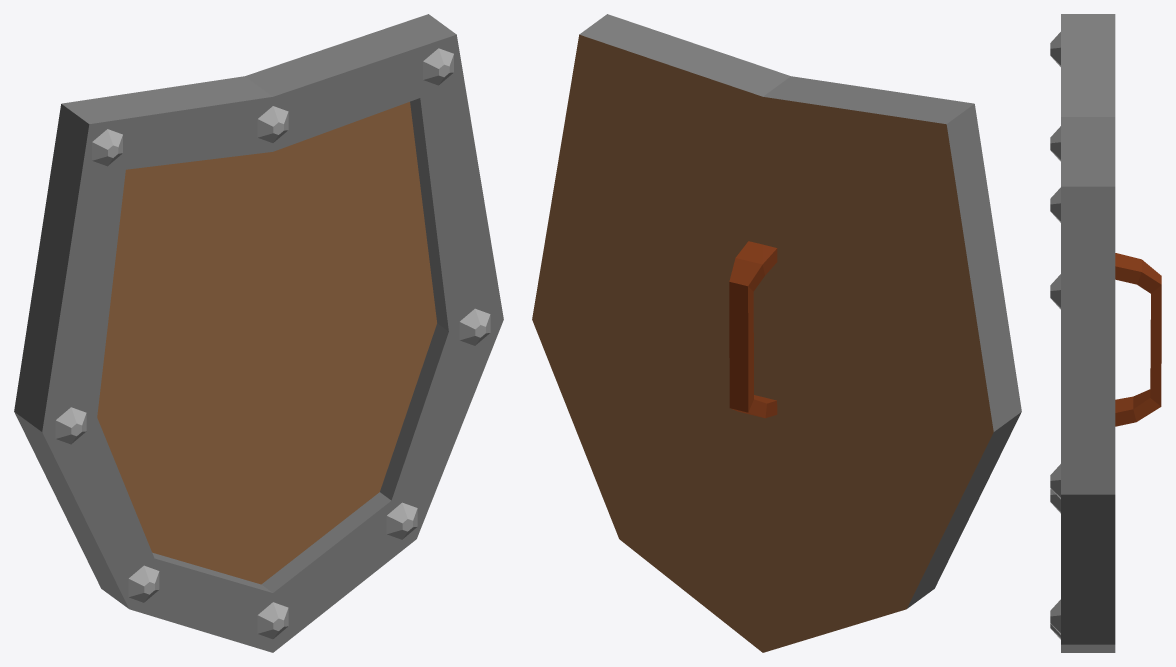
Rendered from shield_1.fbx.
The picture shows the model from 3 angles, left to right: view 1: azimuth 30°, elevation 25°; view 2: azimuth 150°, elevation 25°; view 3: azimuth 270°, elevation 25°; orthographic projection. The views are drawn at different scales.
Visible parts, largest first — view 1: Cylinder.003; view 2: Cylinder.003; view 3: Cylinder.003.
Part boxes in pixels (<box>): Cylinder.003: <box>14,14,503,652</box>; Cylinder.003: <box>532,14,1021,652</box>; Cylinder.003: <box>1050,14,1161,652</box>.
Size of the model in its own units: 2.64 by 3.14 by 0.5746.
